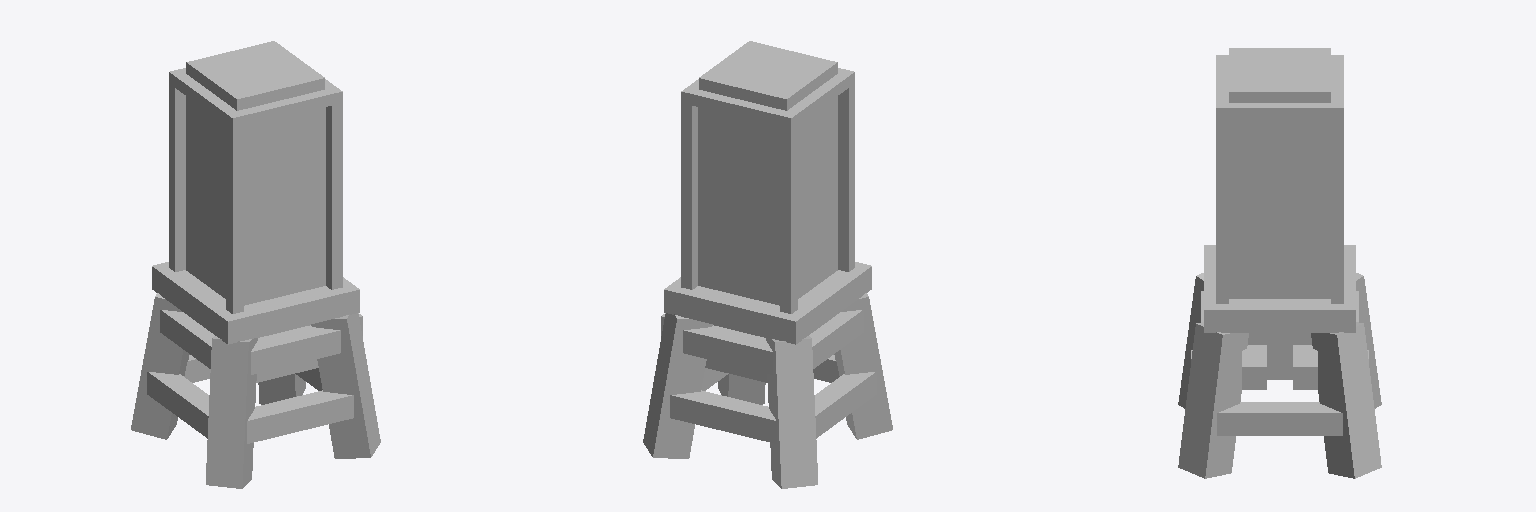
The model's file is autolubricator.obj.
3 renders of one model, left to right at view 1: azimuth 30°, elevation 25°; view 2: azimuth 150°, elevation 25°; view 3: azimuth 270°, elevation 25°, orthographic.
Visible parts, largest first — view 1: AutoLubricator_p4; view 2: AutoLubricator_p4; view 3: AutoLubricator_p4.
Part boxes in pixels (left/top/right/bottom): AutoLubricator_p4: left=131, top=41, right=380, bottom=488; AutoLubricator_p4: left=643, top=41, right=892, bottom=488; AutoLubricator_p4: left=1178, top=48, right=1381, bottom=478.
Bounding box in the file's own units: 0.9979 × 2.02 × 1.